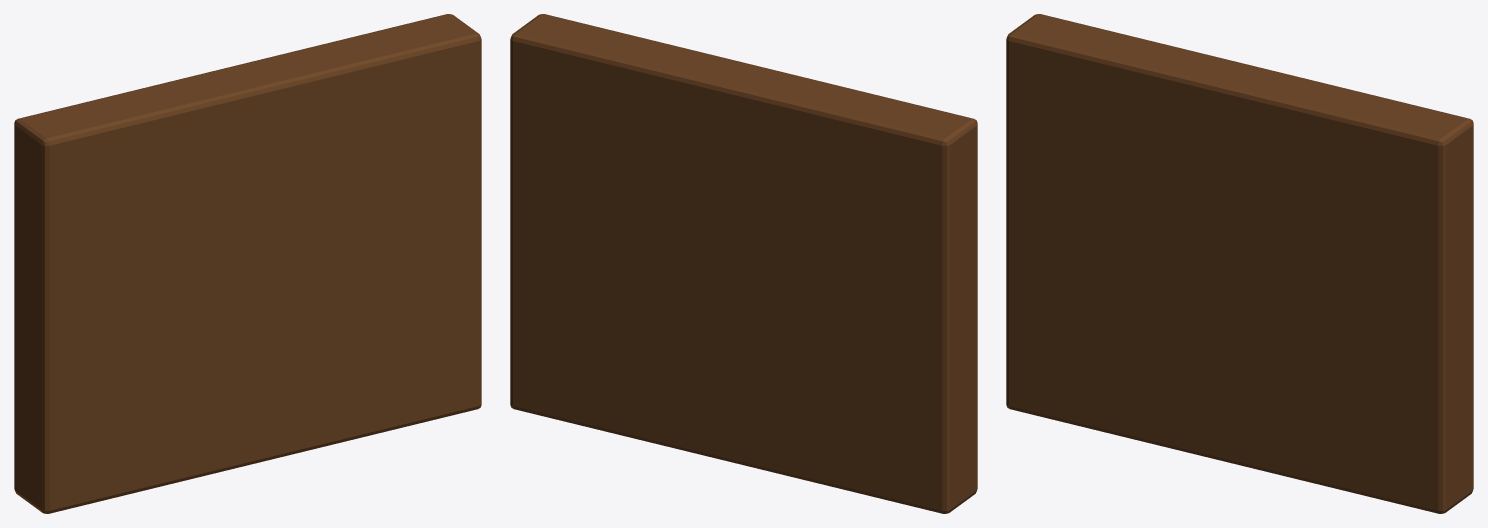
The model's file is mantlet_archer_LOD2.glb.
3 views of the same model, side by side, from view 1: azimuth 30°, elevation 25°; view 2: azimuth 150°, elevation 25°; view 3: azimuth 330°, elevation 25° (orthographic).
Parts seen in each view (by area): view 1: LOD2_Mantlet; view 2: LOD2_Mantlet; view 3: LOD2_Mantlet.
Boxes of the visible parts, x1,y1,x2,y2 form: LOD2_Mantlet: (14,14,481,513); LOD2_Mantlet: (510,14,977,513); LOD2_Mantlet: (1006,14,1473,513).
Size of the model in its own units: 2.18 by 1.78 by 0.28.
